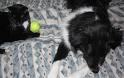tennis ball: (27, 19, 41, 34)
